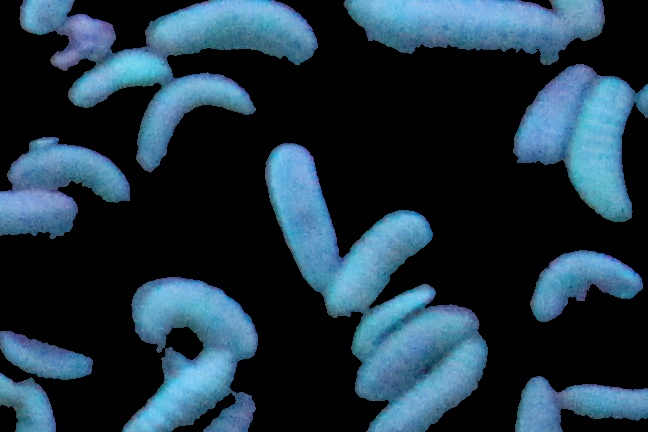larvae: (358, 294, 481, 399), (345, 1, 566, 55), (369, 337, 486, 432), (149, 1, 319, 64), (130, 278, 257, 361), (137, 73, 246, 168), (570, 76, 633, 219), (127, 349, 235, 432), (529, 251, 644, 324), (2, 138, 126, 202), (518, 62, 591, 164), (279, 152, 337, 269), (342, 211, 418, 297), (355, 284, 435, 361), (68, 57, 169, 110), (1, 329, 93, 380), (1, 193, 73, 241), (560, 379, 648, 418), (516, 376, 563, 432), (10, 381, 61, 432)
